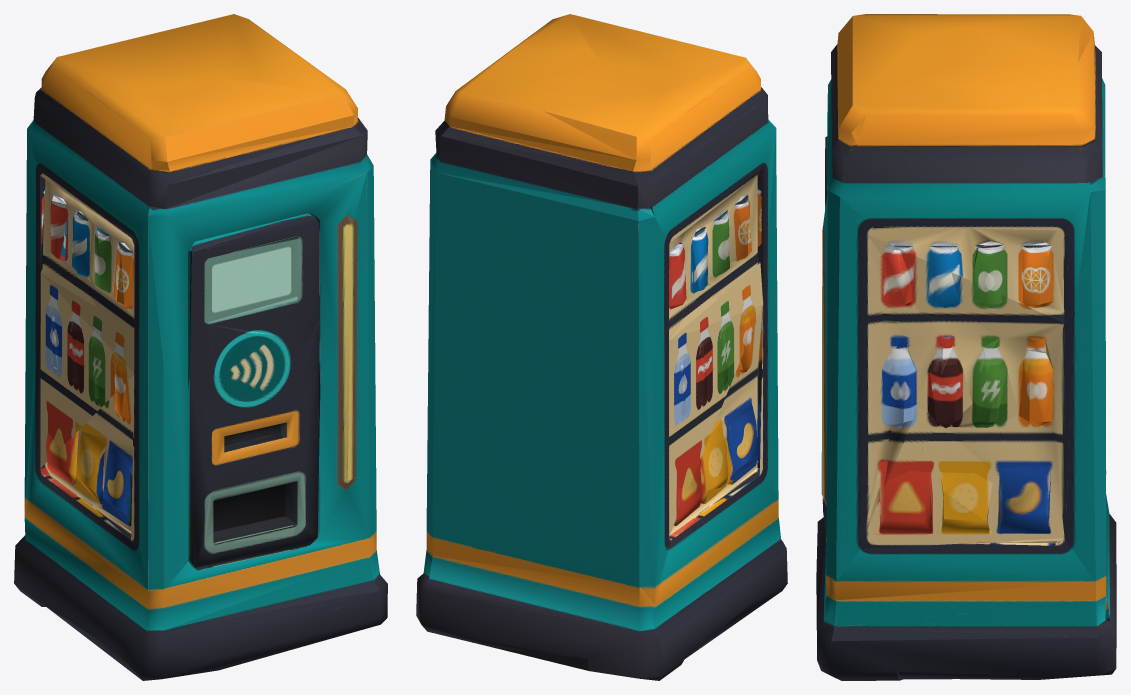
The model's file is Meshy_AI_vending_machine_lowpo_0901095439_texture.fbx.
3 views of the same model, side by side, from view 1: azimuth 30°, elevation 25°; view 2: azimuth 150°, elevation 25°; view 3: azimuth 270°, elevation 25° (orthographic). The views are drawn at different scales.
Parts seen in each view (by area): view 1: output_unwrapped; view 2: output_unwrapped; view 3: output_unwrapped.
Part boxes in pixels (box(x1,y1,x2,y2)): output_unwrapped: box(14, 14, 387, 680); output_unwrapped: box(416, 14, 787, 680); output_unwrapped: box(816, 14, 1116, 680).
Bounding box in the file's own units: 91.84 × 190 × 92.3.
1 material, 1 textured.
